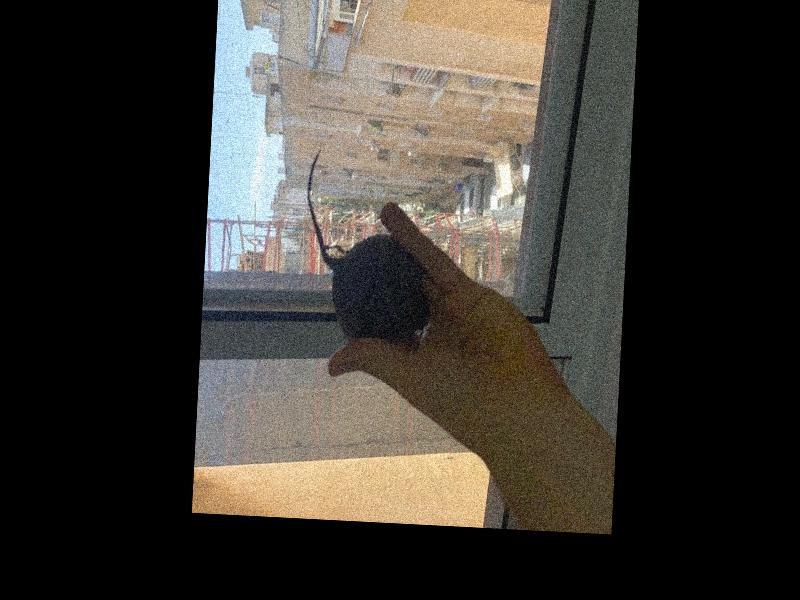Beet: (298, 147, 436, 343)
